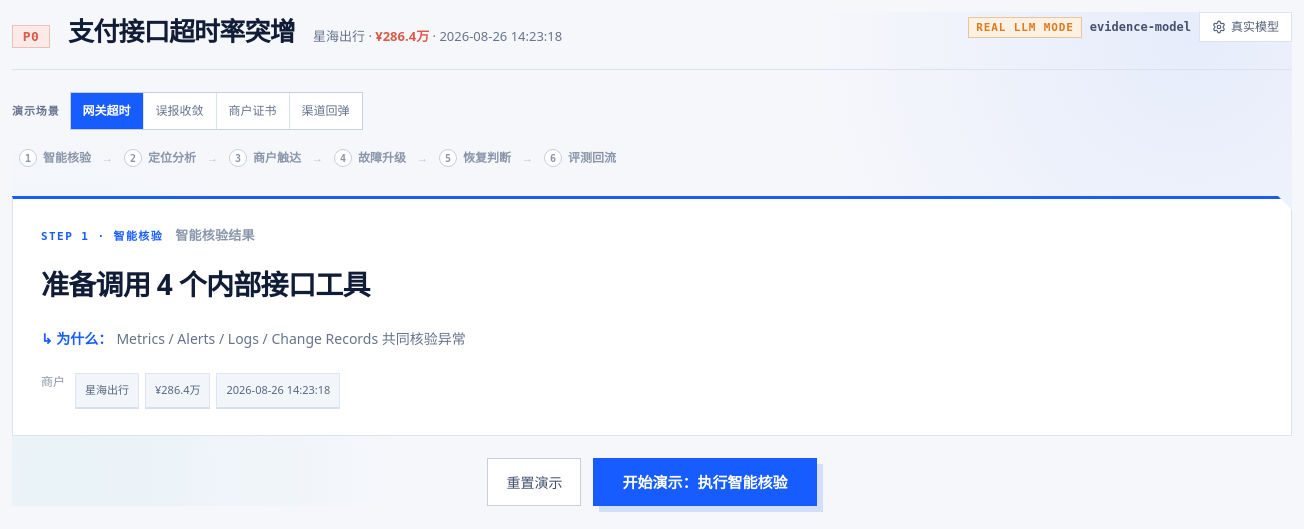
Test: GuidedIncidentDemo › defaults to real LLM mode when configured and can switch to sample data
The width and height of the screenshot is (1304, 529).
Expected: the text "REAL LLM MODE" is shown, [968,16,1082,38]
Click the button with aria-label "运行模式设置".
click(1246, 27)  # box [1199,12,1292,42]
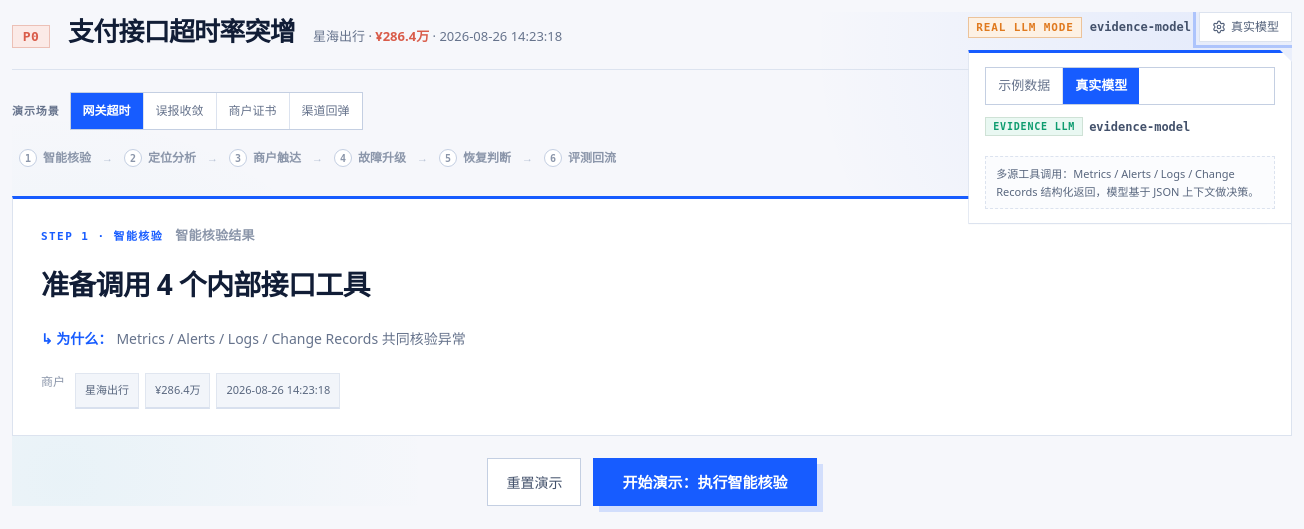
Expected: the 1st text "evidence-model" is shown, [1090,20,1191,34]
Result: the text "EVIDENCE LLM" is shown at [985,117,1083,136]
Click the button "示例数据".
click(1024, 86)  # box [986,68,1062,104]
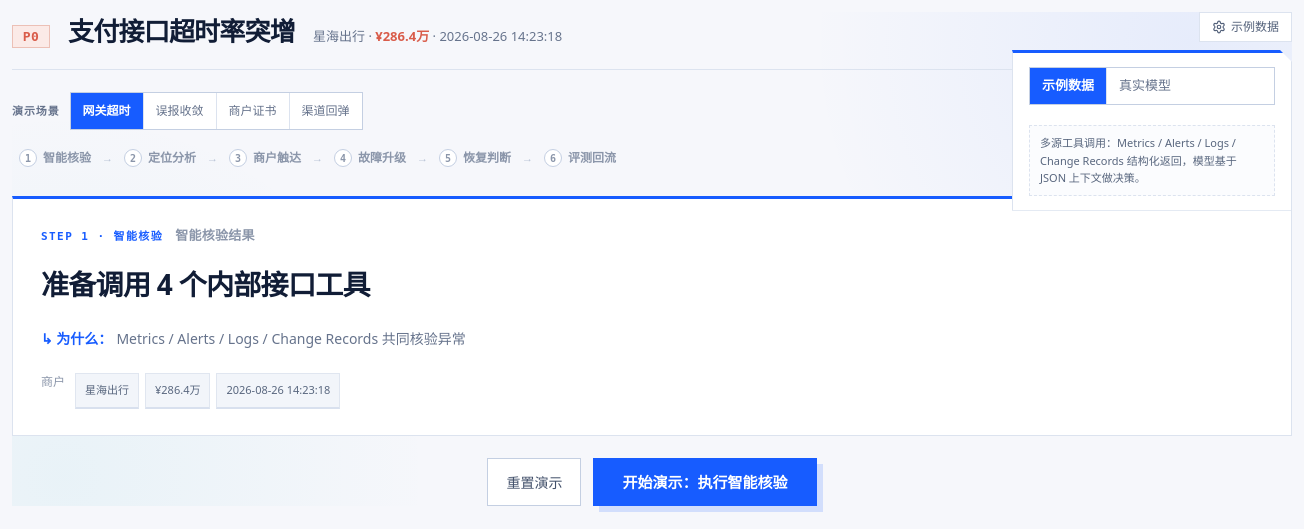
Expected: the button "开始演示：执行智能核验" is shown, [594,458,816,506]
Result: the text "REAL LLM MODE" is gone
